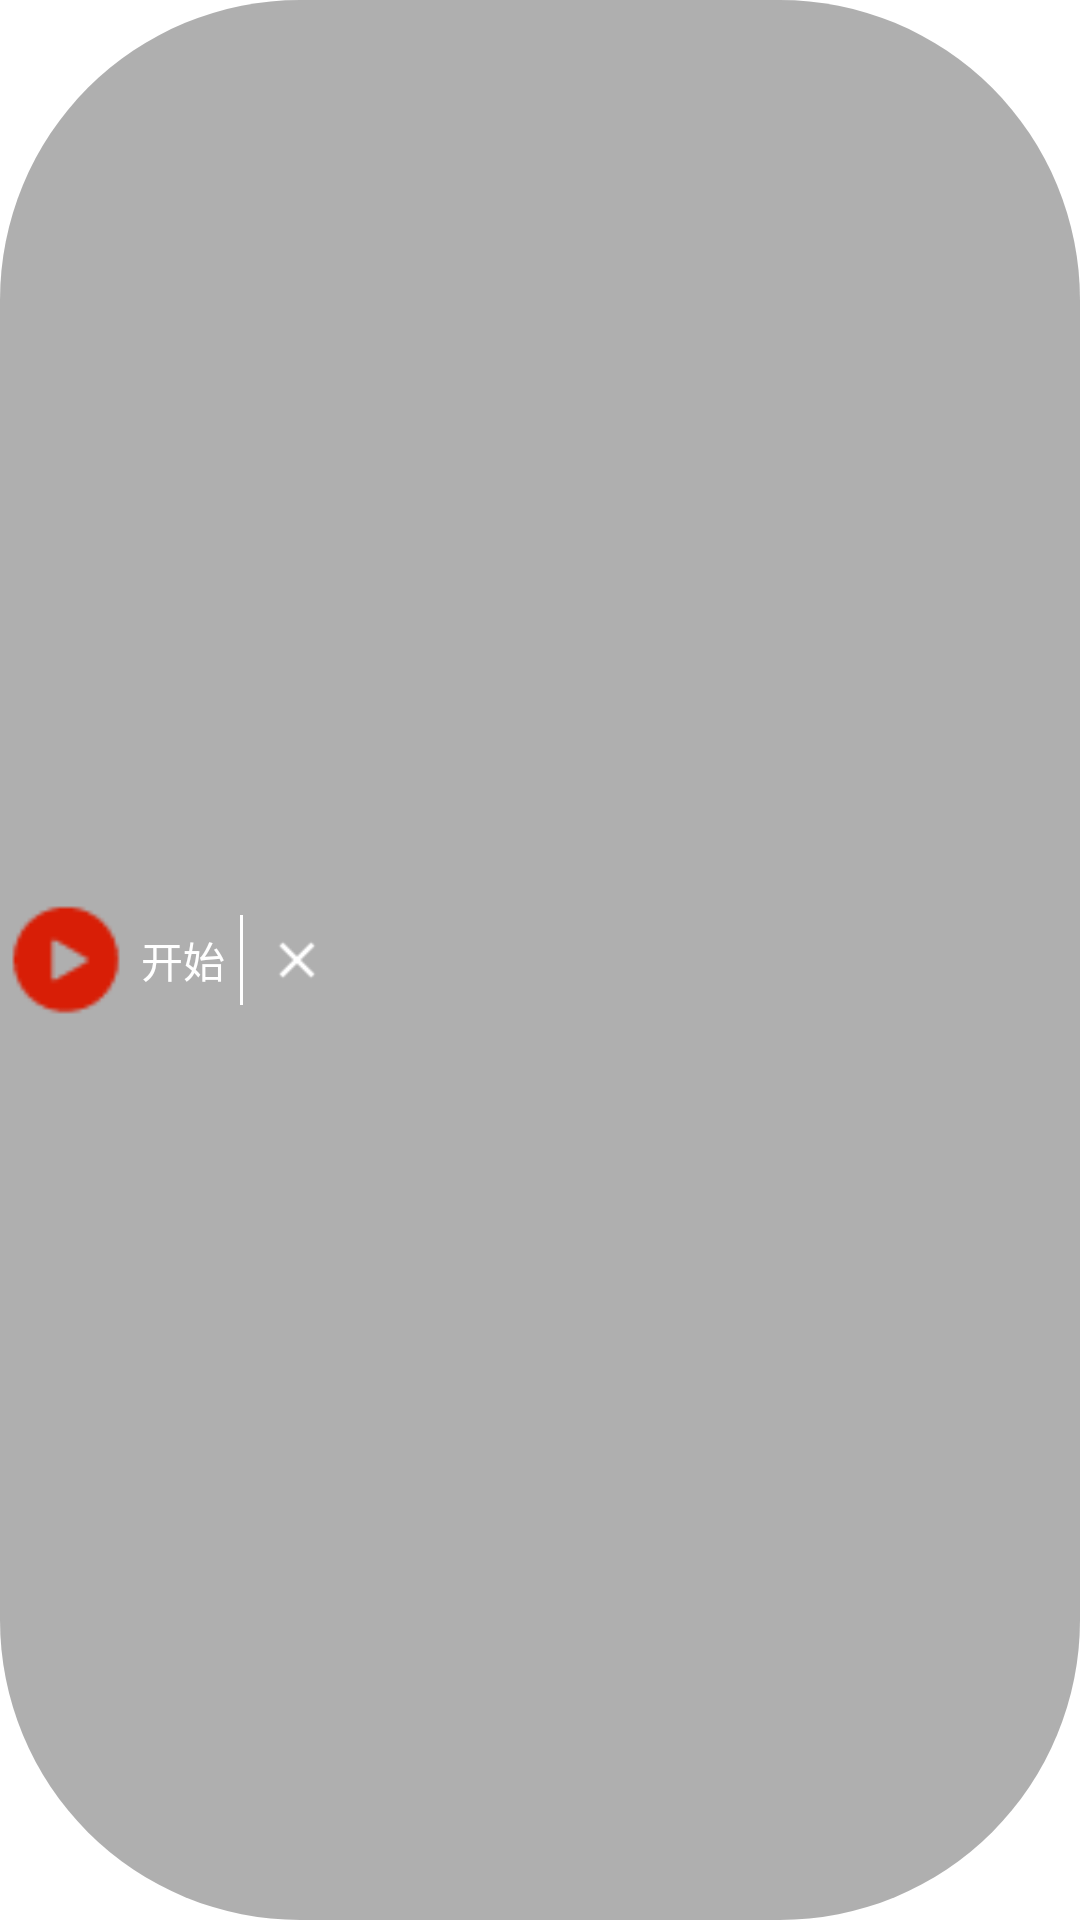

Named icons in this screenshot (1080*1920) and their bounding boxes, (x1, y1, x2, y2):
close: (280, 943, 314, 977)
